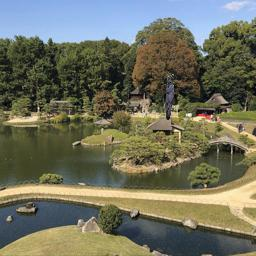Crow: (166, 74, 174, 120)
